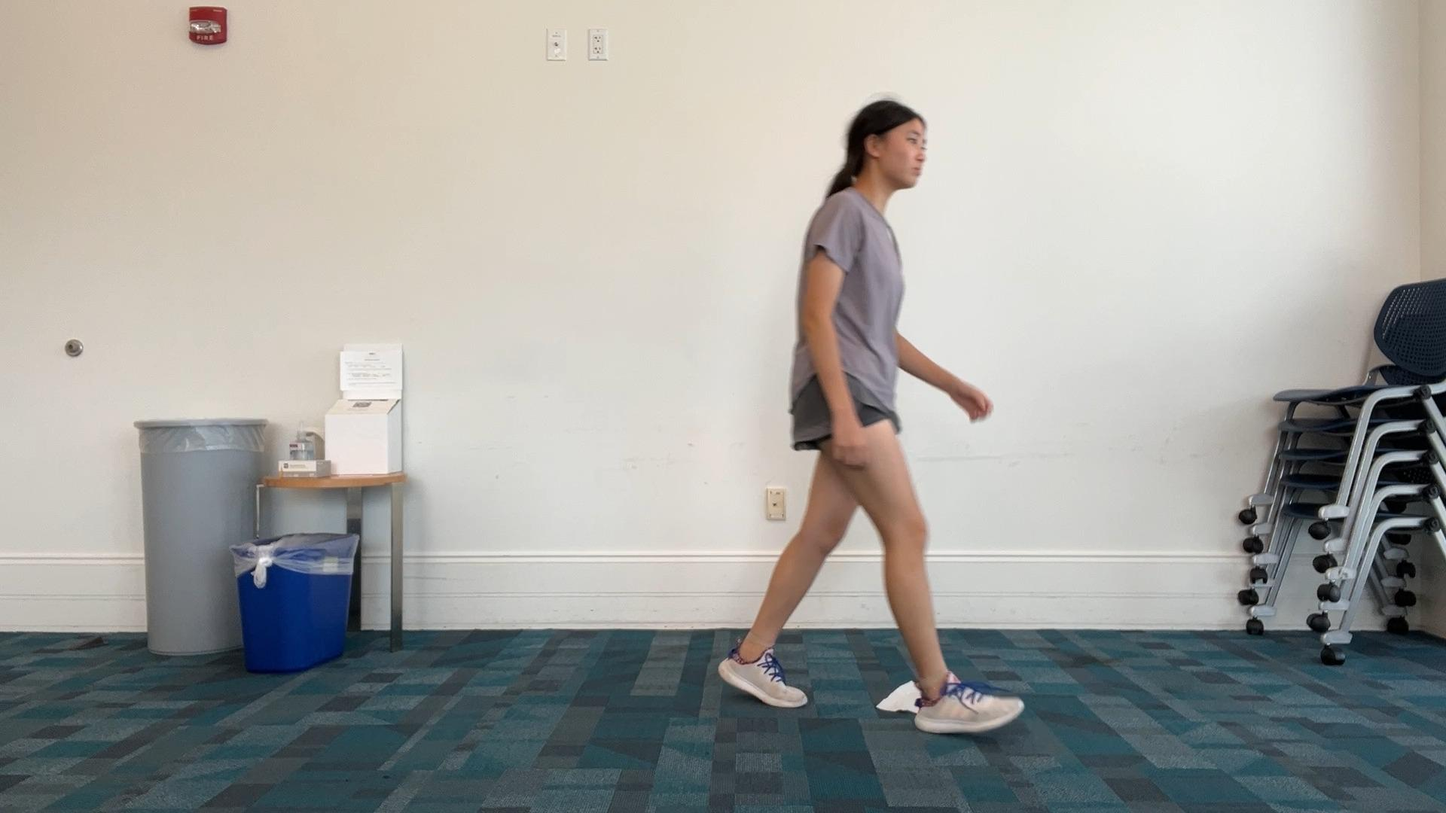Trash: (872, 671, 928, 718)
